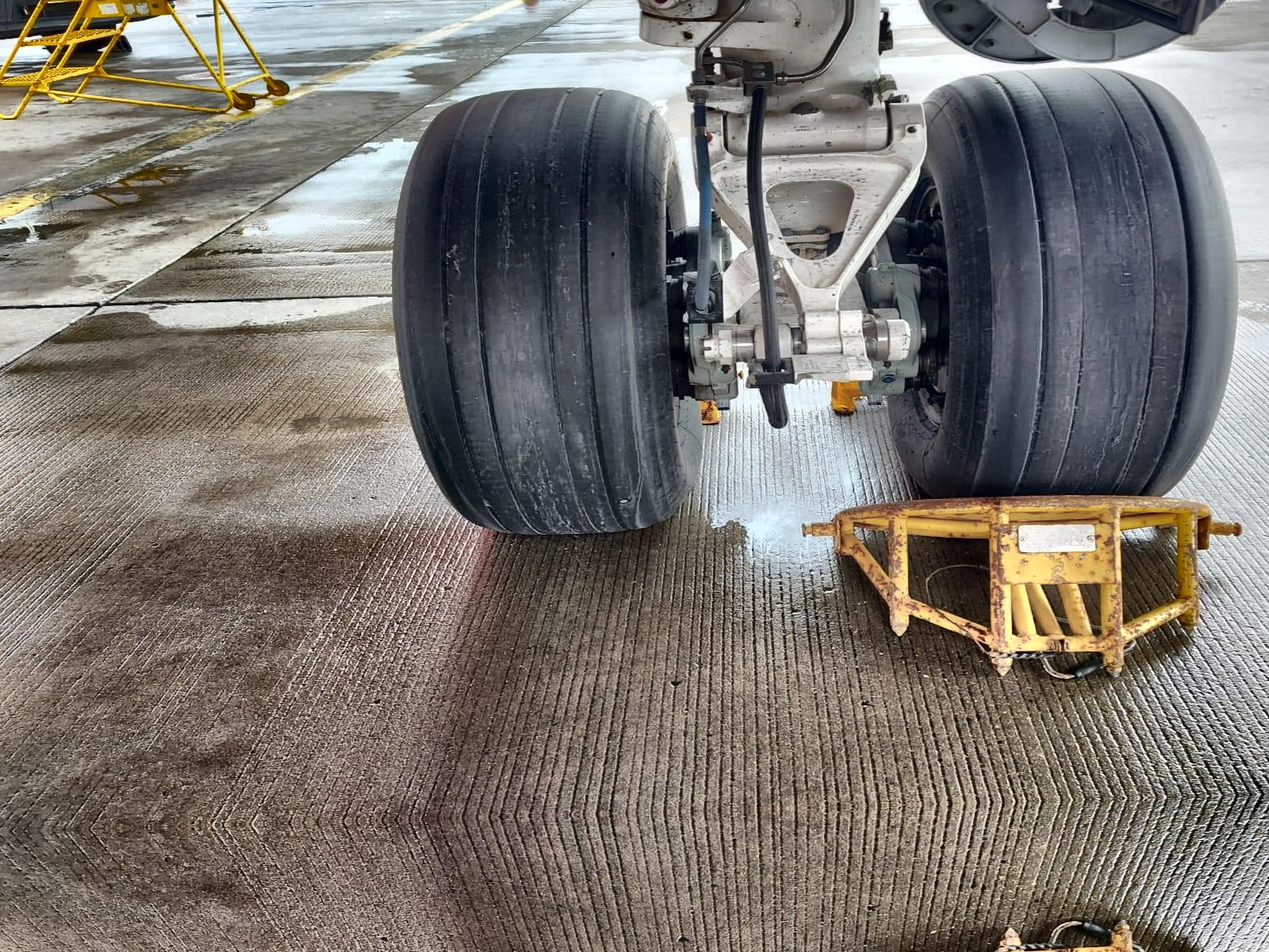chock: (796, 484, 1246, 689)
wheel: (883, 62, 1241, 498), (378, 79, 708, 550)
